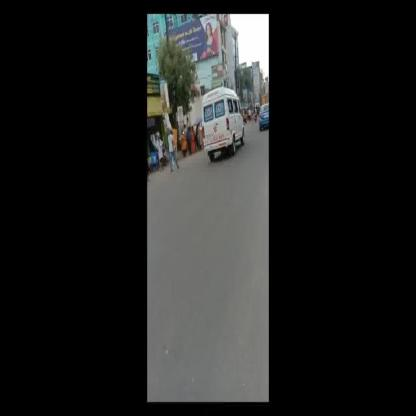priority: (199, 84, 247, 164)
